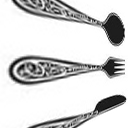fork: (2, 38, 128, 85)
